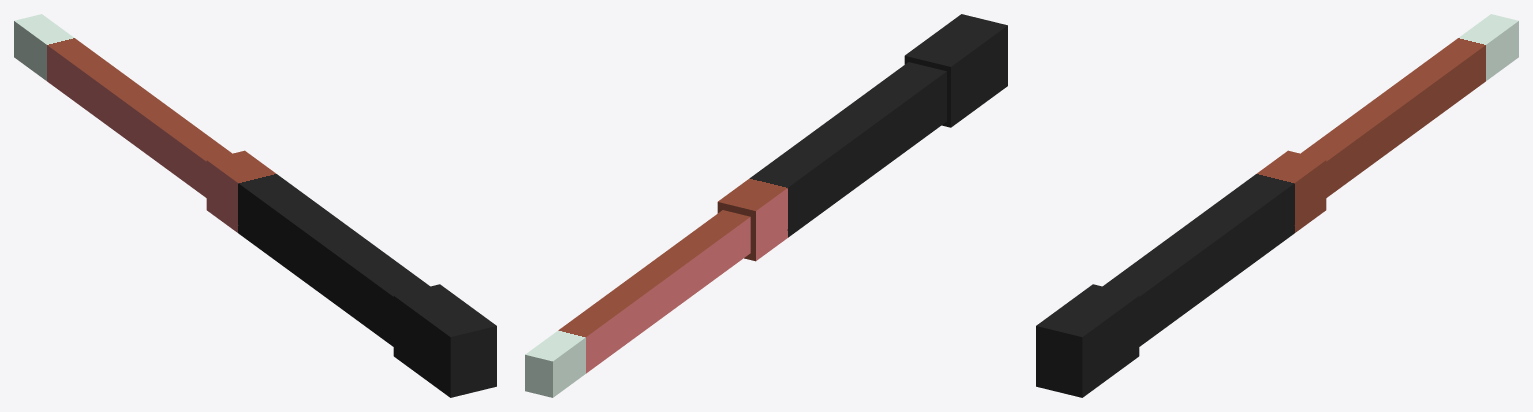
The model's file is Stick.gltf.
The picture shows the model from 3 angles, left to right: view 1: azimuth 30°, elevation 25°; view 2: azimuth 150°, elevation 25°; view 3: azimuth 330°, elevation 25°; orthographic projection.
Parts seen in each view (by area): view 1: cuboid; view 2: cuboid; view 3: cuboid.
Boxes of the visible parts, bbox=[...] form: cuboid: bbox=[14, 14, 496, 397]; cuboid: bbox=[525, 14, 1007, 397]; cuboid: bbox=[1036, 14, 1518, 397].
Bounding box in the file's own units: 0.05 × 0.0625 × 0.8313.
1 material, 1 textured.
